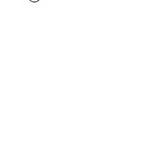chain: (28, 0, 40, 4)
